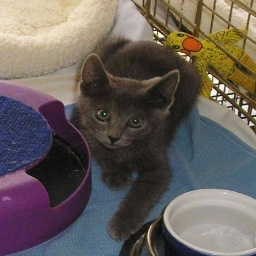cat: (65, 28, 204, 247)
